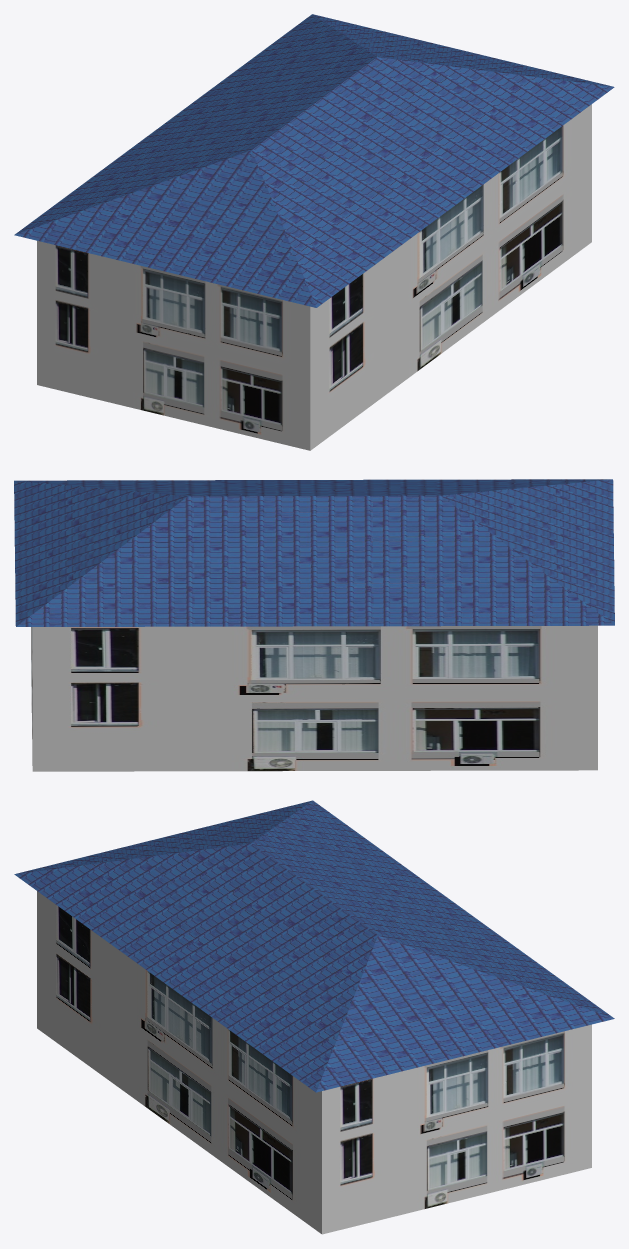
The picture shows the model from 3 angles, top to bottom: view 1: azimuth 30°, elevation 25°; view 2: azimuth 150°, elevation 25°; view 3: azimuth 270°, elevation 25°; orthographic projection.
Visible parts, largest first — view 1: CityEngineMaterial_10_m, CityEngineMaterial_9_m; view 2: CityEngineMaterial_10_m, CityEngineMaterial_9_m; view 3: CityEngineMaterial_10_m, CityEngineMaterial_9_m.
Part boxes in pixels (<box>): CityEngineMaterial_10_m: <box>14,14,614,307</box>; CityEngineMaterial_9_m: <box>37,104,591,450</box>; CityEngineMaterial_10_m: <box>14,479,614,626</box>; CityEngineMaterial_9_m: <box>31,625,597,771</box>; CityEngineMaterial_10_m: <box>14,800,614,1092</box>; CityEngineMaterial_9_m: <box>37,891,591,1234</box>.
Size of the model in its own units: 38.68 by 12.88 by 33.62.
